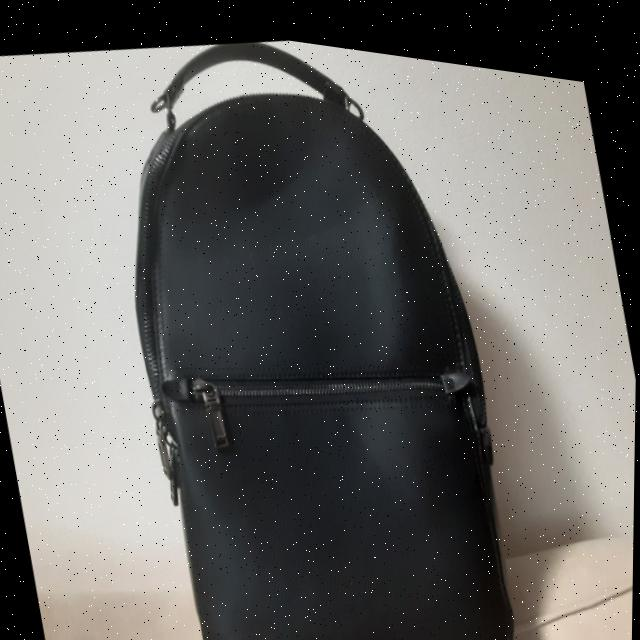backpack: (49, 6, 559, 640)
